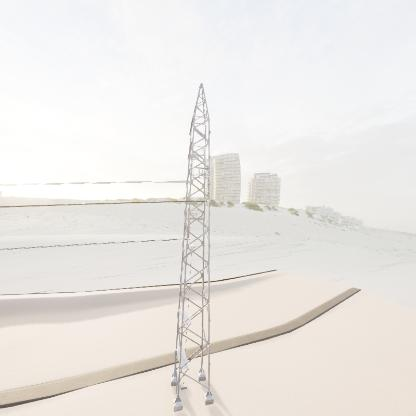tower: (165, 88, 230, 415)
